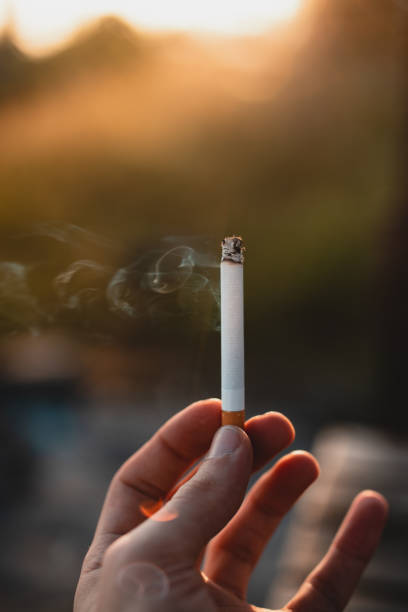cigarette: (220, 234, 250, 427)
